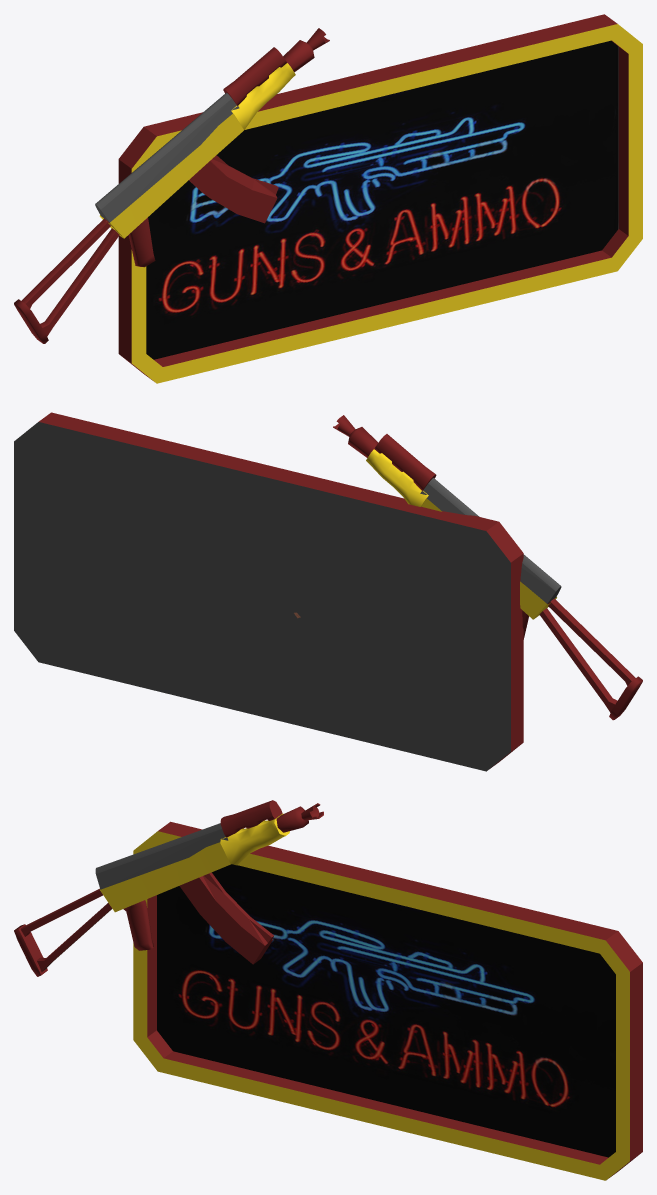
The model's file is Sign_Big.FBX.
The picture shows the model from 3 angles, top to bottom: view 1: azimuth 30°, elevation 25°; view 2: azimuth 150°, elevation 25°; view 3: azimuth 330°, elevation 25°; orthographic projection. The views are drawn at different scales.
Visible parts, largest first — view 1: Sign_Big; view 2: Sign_Big; view 3: Sign_Big.
Boxes of the visible parts, <box> form: Sign_Big: <box>14,14,642,383</box>; Sign_Big: <box>14,412,642,771</box>; Sign_Big: <box>14,800,642,1180</box>.
Size of the model in its own units: 3.13 by 1.5 by 0.2004.
